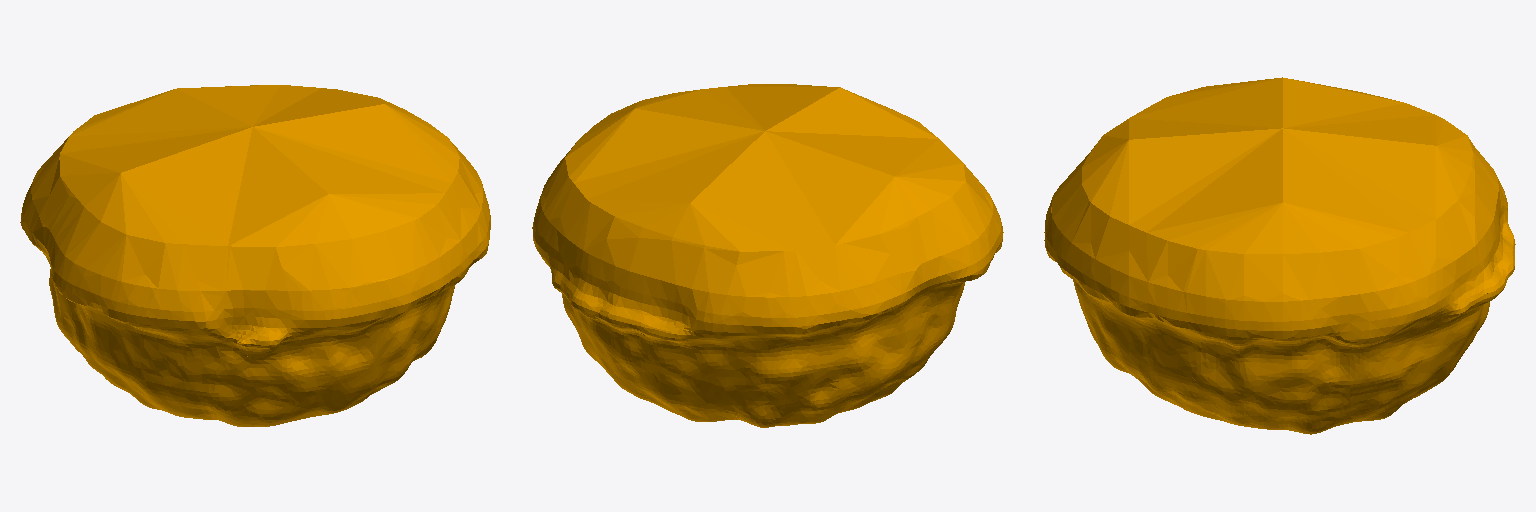
URDF robot description (bowl):
<?xml version="1.0"?>
<robot name="bowl">
  <link name="base_link">
    <inertial>
      <origin xyz="-0.000502 0.004731 0.051882" rpy="0 0 0" />
      <mass value="1.259197" />
      <inertia ixx="0.00216278" ixy="-0.00000542" ixz="-0.00000830"
               iyy="0.00219576" iyz="0.00002376" izz="0.00307308" />
    </inertial>
    <visual>
      <geometry><mesh filename="bowl.stl" scale="1.0 1.0 1.0" /></geometry>
    </visual>
    <collision>
      <geometry><mesh filename="bowl_col.obj" scale="1.0 1.0 1.0" /></geometry>
    </collision>
    <!-- PyBullet reads this URDF extension directly (setup/plane.urdf already
         does). Without it every object falls back to PyBullet's default 0.5,
         and since Bullet MULTIPLIES the two bodies' coefficients that left an
         effective mu of 0.25 against the fingers, which is why the grip
         force had to be pushed to 50N to hold anything. -->
    <contact>
      <lateral_friction value="1.0"/>
    </contact>
  </link>
</robot>

--- What the picture shows (computed from the rendered views, not written in the file) ---
The picture shows the robot from 3 angles, left to right: view 1: azimuth 30°, elevation 25°; view 2: azimuth 150°, elevation 25°; view 3: azimuth 270°, elevation 25°; orthographic projection.
Model bowl with 1 links and 0 joints (none), rooted at base_link, posed every joint at zero.
Links seen in each view (by area): view 1: base_link; view 2: base_link; view 3: base_link.
Boxes of the visible links, x1,y1,x2,y2 form: base_link: [20, 85, 490, 426]; base_link: [532, 84, 1003, 427]; base_link: [1044, 77, 1515, 434].
Bounding box of the posed robot: 0.1636 × 0.1597 × 0.0936 m (x, y, z).
1 mesh visuals loaded from 1 distinct referenced files (1 binary STL).
